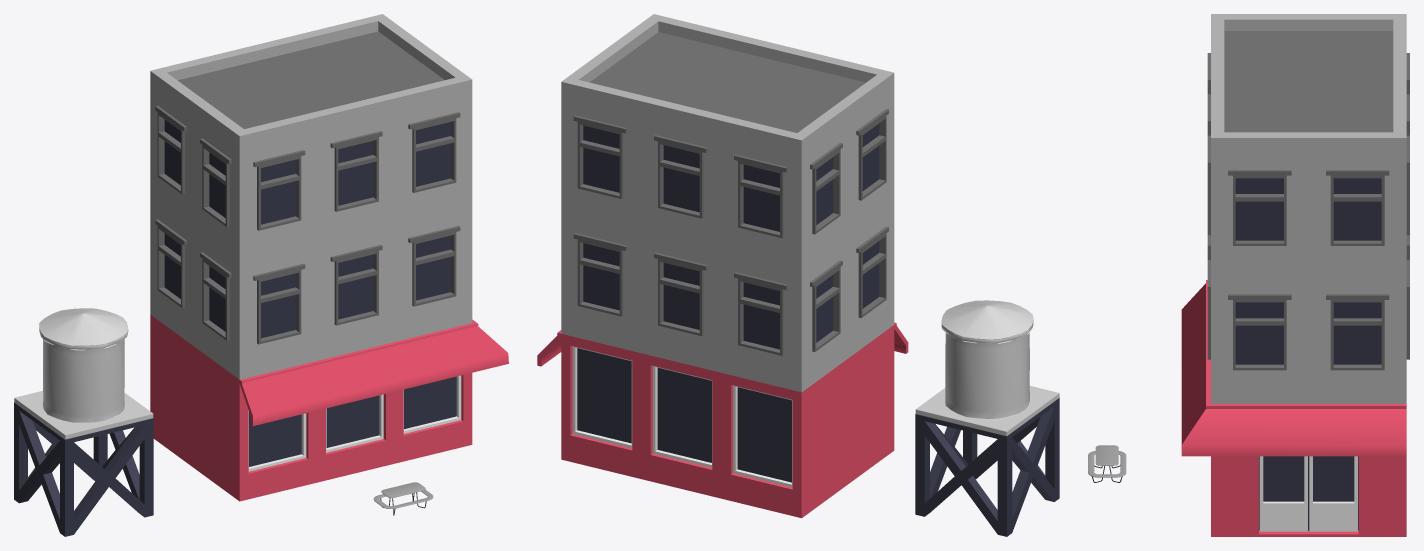
3 views of the same model, side by side, from view 1: azimuth 30°, elevation 25°; view 2: azimuth 150°, elevation 25°; view 3: azimuth 270°, elevation 25° (orthographic). The views are drawn at different scales.
Visible parts, largest first — view 1: Main building, Ground floor, Window glass, Window frames, Roof, Marquee, Water tank, Legs, Window frame, table and bench; view 2: Main building, Window glass, Ground floor, Window frames, Roof, Water tank, Legs, Window frame, Marquee; view 3: Main building, Roof, Window glass, Marquee, Window frames, Ground floor, Door, table and bench.
Part boxes in pixels (x1,y1,x2,y2): Main building: (150,14,472,379); Ground floor: (150,314,472,501); Window glass: (164,120,456,466); Window frames: (155,105,460,344); Roof: (178,31,444,129); Marquee: (239,319,508,425); Water tank: (14,308,153,439); Legs: (14,402,153,536); Window frame: (248,375,461,471); table and bench: (373,482,433,508); Main building: (561,14,894,392); Window glass: (577,123,879,482); Ground floor: (561,325,894,518); Window frames: (573,109,888,355); Roof: (590,32,865,132); Water tank: (915,300,1059,436); Legs: (915,398,1059,536); Window frame: (572,346,792,487); Marquee: (537,322,908,366); Main building: (1211,14,1406,403); Roof: (1224,31,1393,132); Window glass: (1235,178,1381,530); Marquee: (1181,280,1406,456); Window frames: (1207,53,1409,370); Ground floor: (1211,456,1406,536); Door: (1259,456,1357,531); table and bench: (1088,445,1126,476).
Size of the model in its own units: 0.1091 by 0.0901 by 0.0659.
